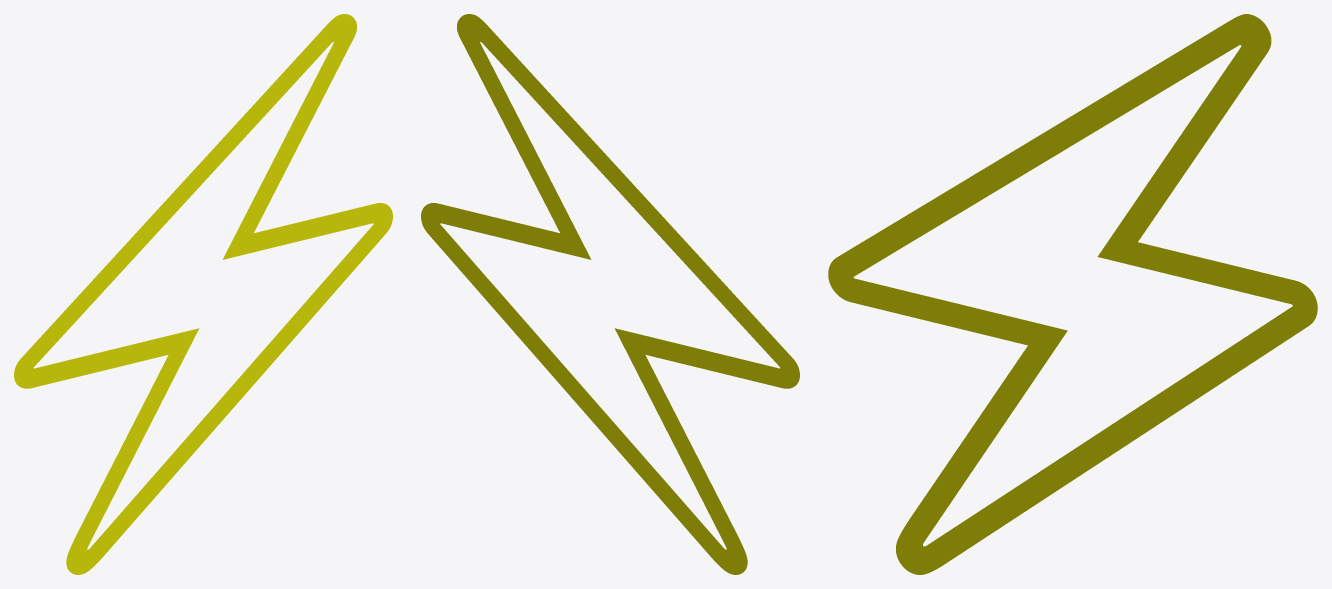
Rendered from high_voltage_sign.glb.
3 renders of one model, left to right at view 1: azimuth 30°, elevation 25°; view 2: azimuth 150°, elevation 25°; view 3: azimuth 330°, elevation 25°, orthographic. The views are drawn at different scales.
Parts seen in each view (by area): view 1: Text.635_635; view 2: Text.635_635; view 3: Text.635_635.
Part boxes in pixels (box(x1,y1,x2,y2)): Text.635_635: box(14, 14, 392, 574); Text.635_635: box(421, 14, 799, 574); Text.635_635: box(828, 14, 1317, 574).
Size of the model in its own units: 0.811 by 1.02 by 3.6e-06.
